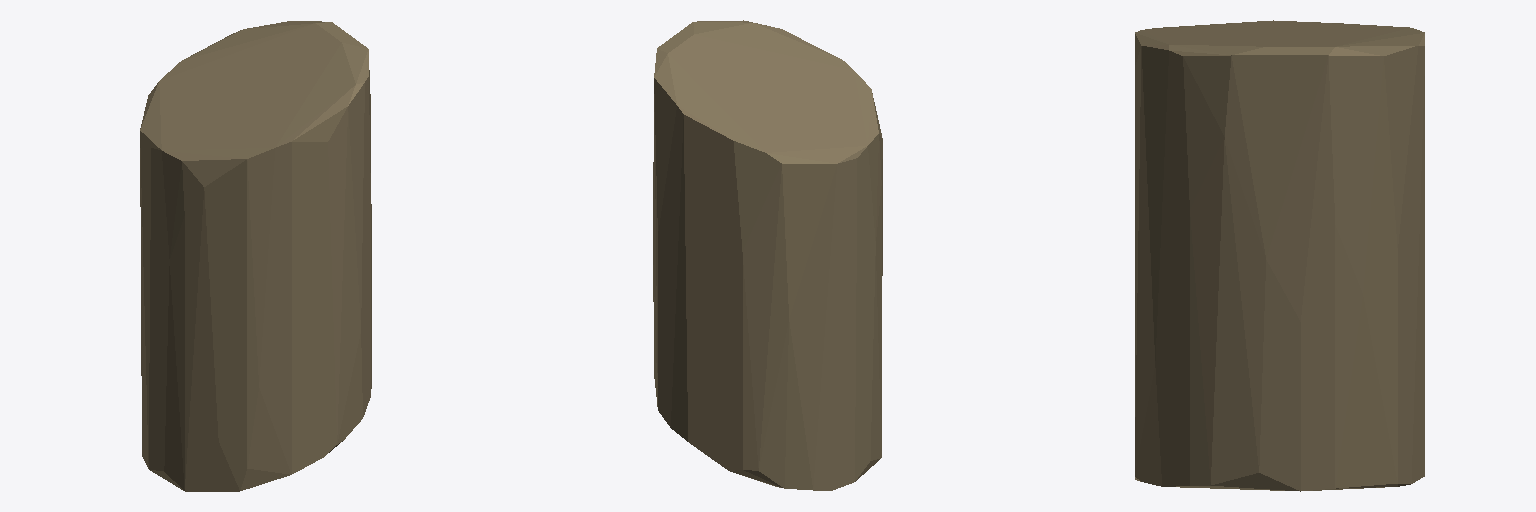
URDF robot description (cylinder_parallogram):
<?xml version="1.0"?>
<robot name="cylinder_parallogram">
  <link name="base_link">
    <visual>
      <origin xyz="0 0 0" rpy="0 0 0" />
      <geometry>
        <mesh filename="cylinder_parallogram_decimated.obj" />      
      </geometry>
      <material name="tan">
        <color rgba="0.55 0.5 0.4 1" />
      </material>
    </visual>
    <collision>
      <origin xyz="0 0 0" rpy="0 0 0" />
      <geometry>
        <mesh filename="cylinder_parallogram_decimated.obj" />
      </geometry>
    </collision>
  </link>
</robot>

--- Facts derived from the render (not from the file) ---
The picture shows the robot from 3 angles, left to right: view 1: azimuth 30°, elevation 25°; view 2: azimuth 150°, elevation 25°; view 3: azimuth 270°, elevation 25°; orthographic projection.
Robot: cylinder_parallogram — 1 links, 0 joints (none); root link base_link; default pose: every joint at zero.
Visible links, largest first — view 1: base_link; view 2: base_link; view 3: base_link.
Boxes of the visible links, left/top/right/bottom form: base_link: left=140, top=21, right=371, bottom=491; base_link: left=653, top=20, right=882, bottom=490; base_link: left=1135, top=20, right=1424, bottom=491.
Size in the robot's own frame: 26.07 by 25.46 by 50.31 metres.
1 mesh visuals loaded from 1 distinct referenced files (1 OBJ).
